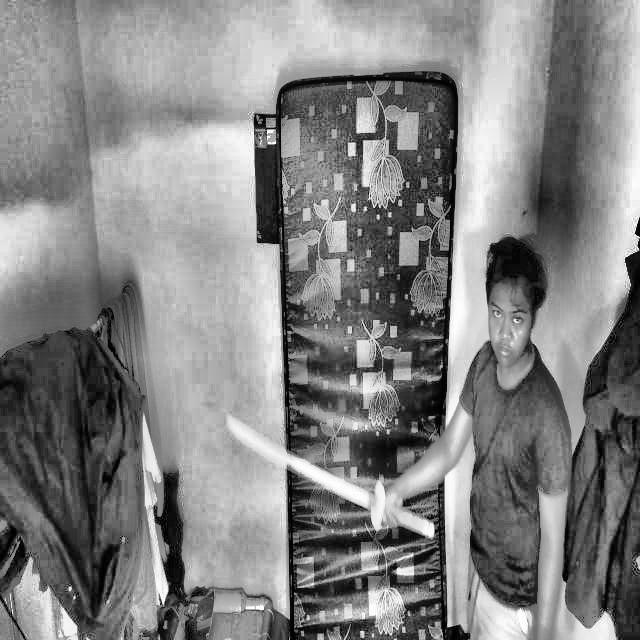pisau: (190, 384, 450, 549)
